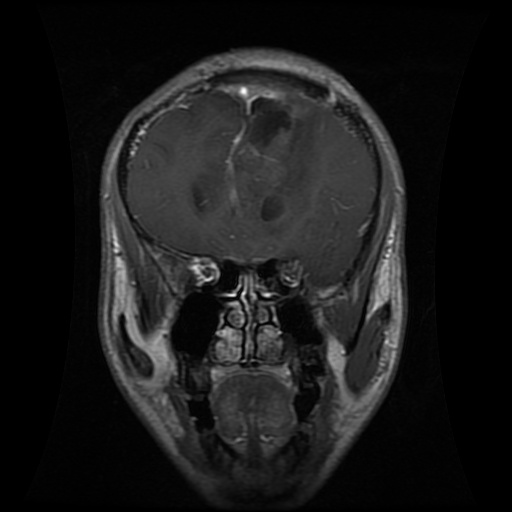glioma: (232, 94, 305, 167)
